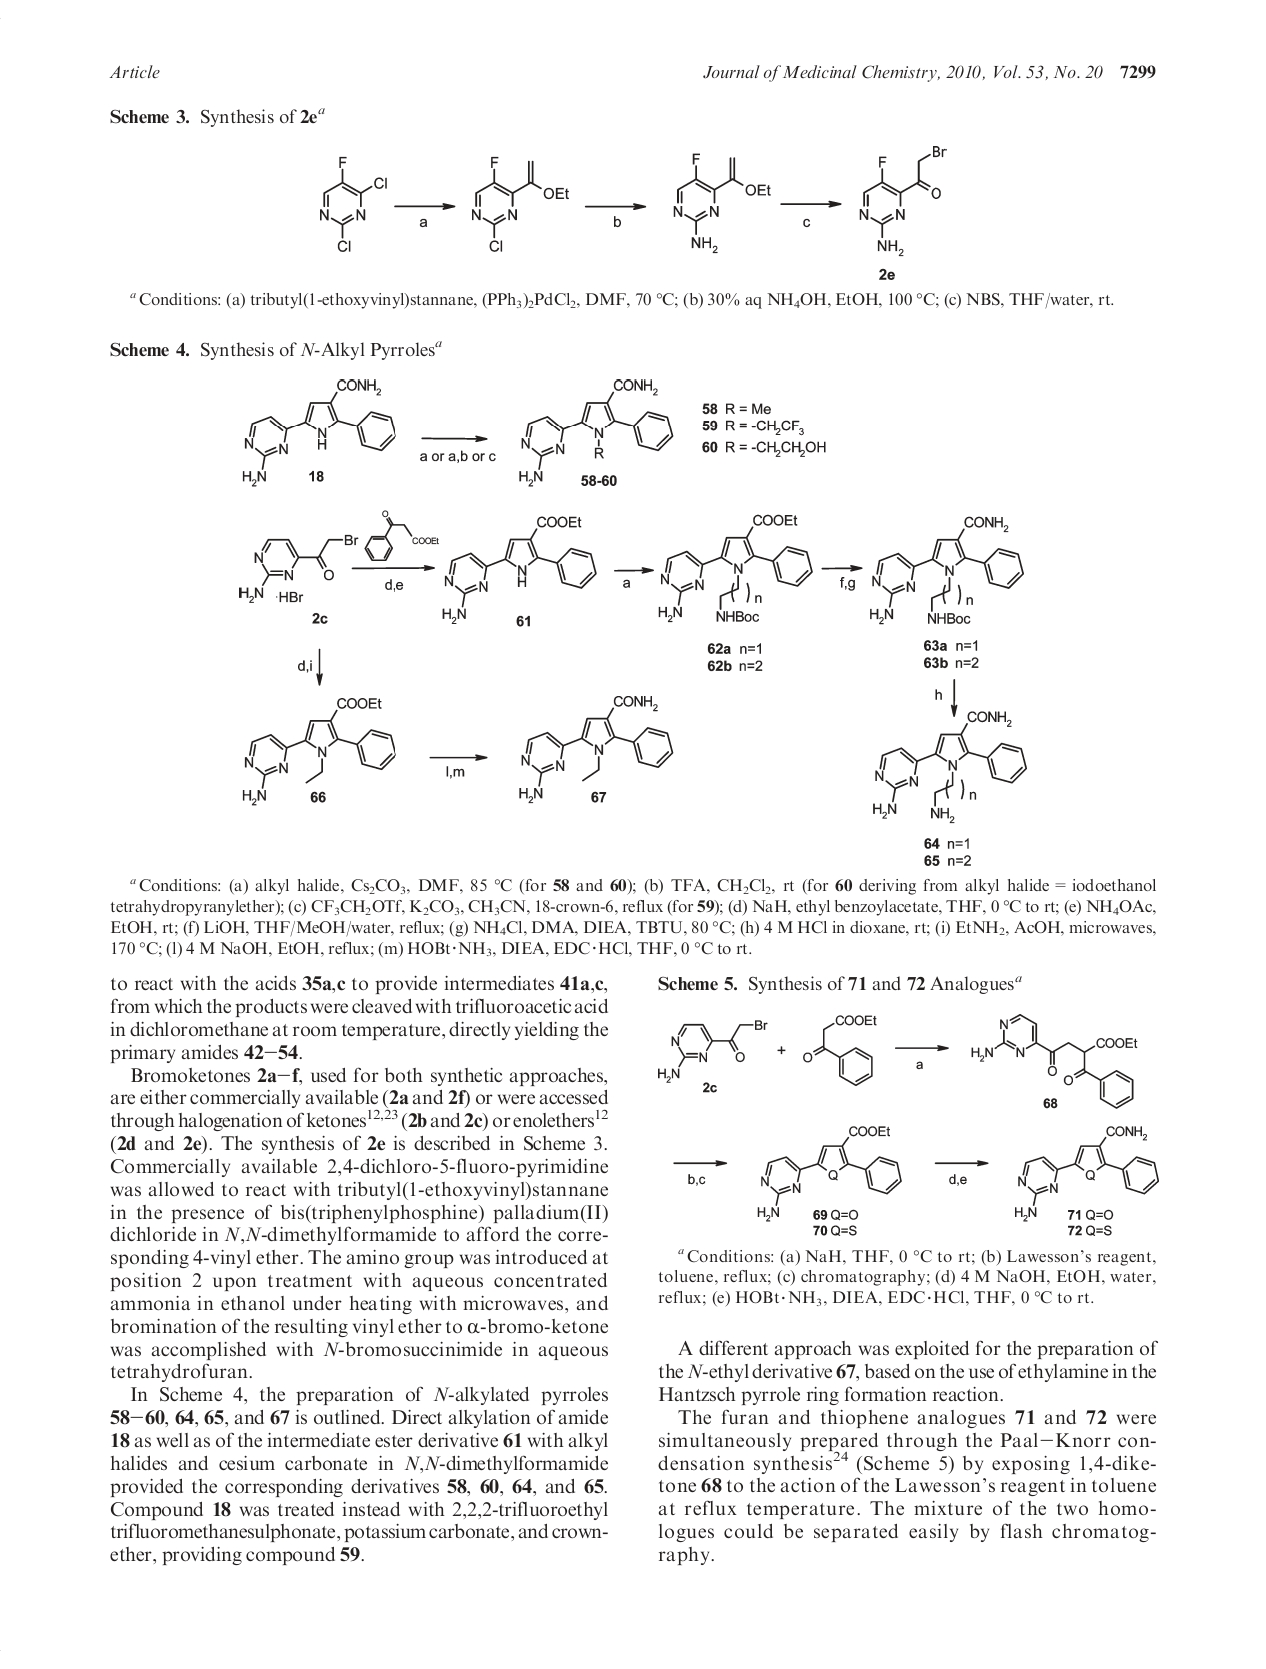exist_molecular: (870, 707, 1032, 825), (516, 692, 677, 806), (517, 374, 676, 489), (238, 375, 398, 489), (653, 512, 815, 624), (239, 696, 399, 809), (438, 515, 598, 626), (867, 515, 1027, 626), (969, 1011, 1141, 1110), (1009, 1122, 1162, 1223), (754, 1122, 903, 1223), (855, 140, 953, 259), (669, 150, 773, 255), (468, 156, 570, 254), (237, 532, 362, 606), (656, 1019, 771, 1084), (316, 154, 391, 255), (801, 1009, 880, 1091), (363, 508, 442, 565)
